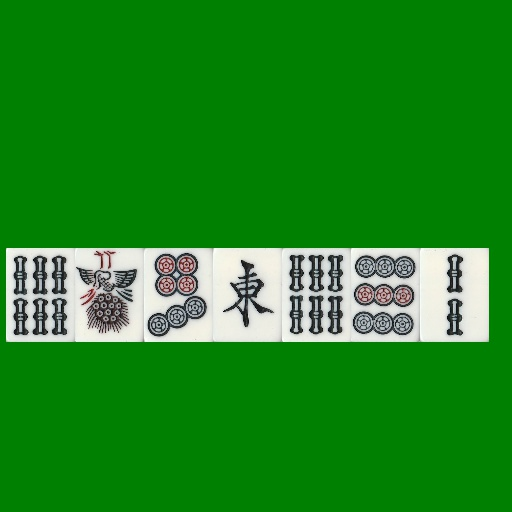1s: (75, 248, 144, 342)
2s: (420, 248, 489, 342)
6s: (6, 248, 75, 342), (282, 248, 351, 342)
7p: (144, 248, 213, 342)
9p: (351, 248, 420, 342)
east: (213, 248, 282, 342)
